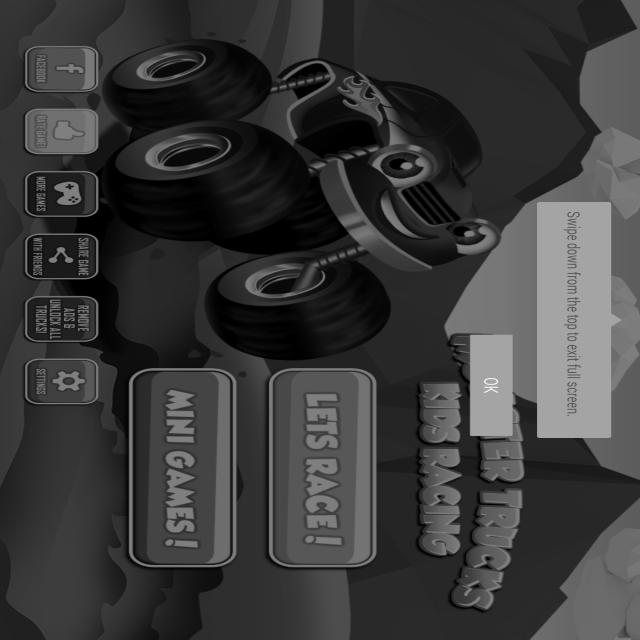Button: (119, 361, 245, 574), (262, 362, 386, 570), (457, 331, 522, 444), (20, 41, 106, 97), (18, 355, 108, 408), (20, 293, 111, 345), (19, 105, 106, 158), (18, 169, 108, 220), (18, 230, 106, 282)
TextView: (557, 208, 589, 420)
